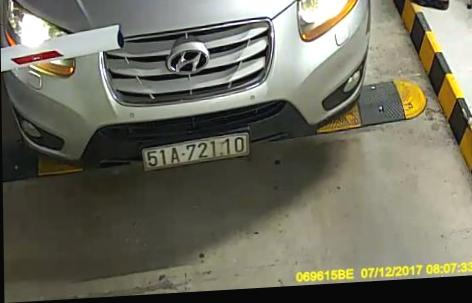License_Plate: (141, 131, 252, 170)
